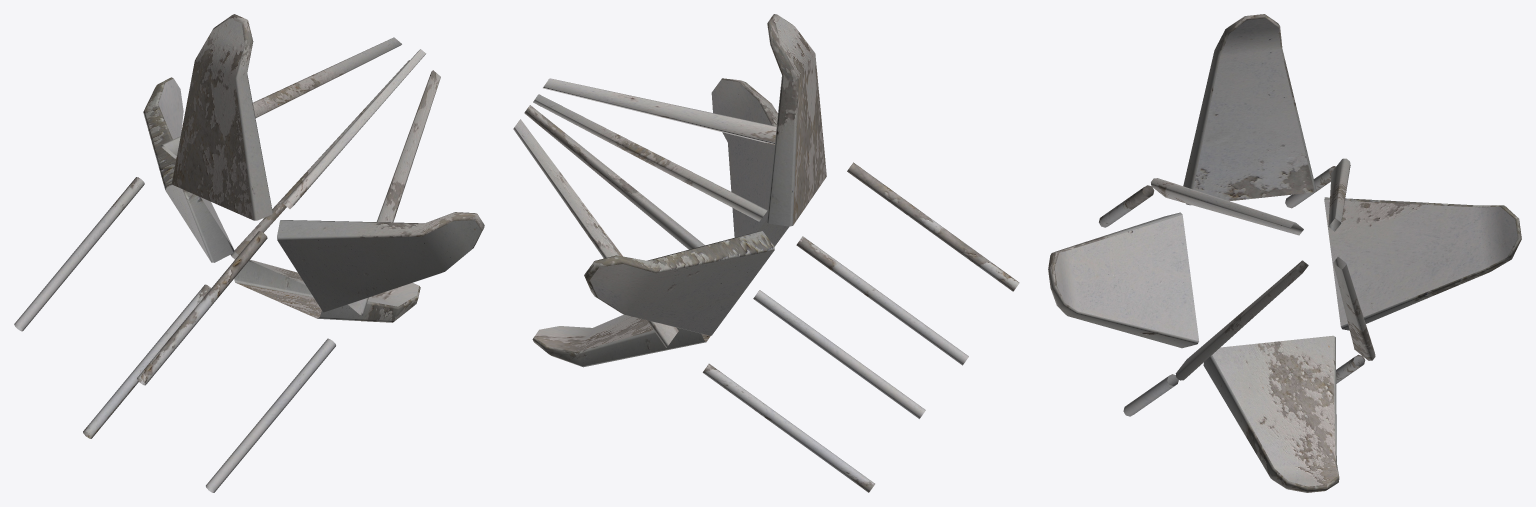
3 views of the same model, side by side, from view 1: azimuth 30°, elevation 25°; view 2: azimuth 150°, elevation 25°; view 3: azimuth 270°, elevation 25° (orthographic). The views are drawn at different scales.
Parts seen in each view (by area): view 1: 6.010; view 2: 6.010; view 3: 6.010.
Part boxes in pixels (<box>): 6.010: <box>14,14,484,492</box>; 6.010: <box>513,14,1019,492</box>; 6.010: <box>1048,14,1521,492</box>.
Bounding box in the file's own units: 299 × 275 × 265.
